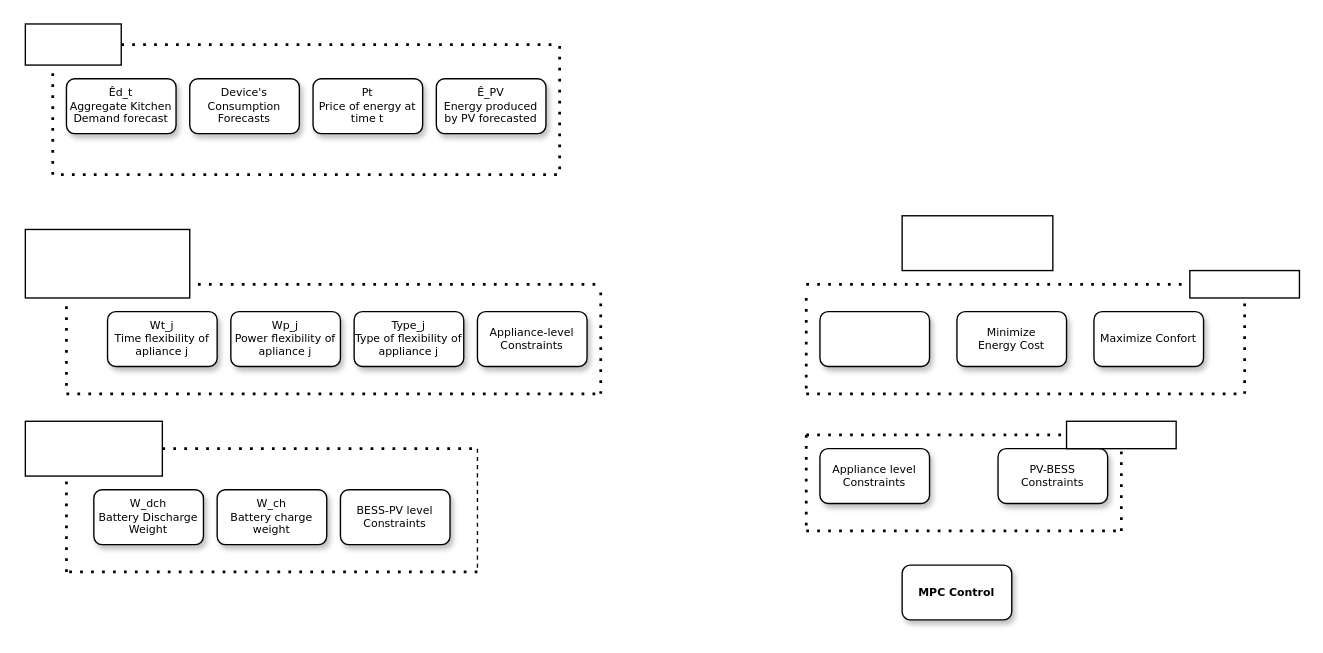
Some shapes in this 1323 by 653 pixel diagram are drawn without their labels. Here are the shapes that lost their labels. From the top down, the centre of each, then its label:
At point (72, 44): "Exogenous Variables".
At point (977, 242): "Optimization".
At point (107, 263): "Appliance Flexibility Characterisation - Ana Oliveira".
At point (1243, 283): "Cost Function".
At point (875, 340): "Minimize CO2 Emissions".
At point (93, 448): "BESS and PV modelling".
At point (1120, 434): "Constraints".
